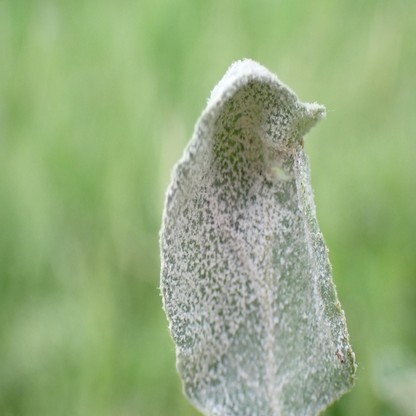powder: (161, 60, 357, 416)
